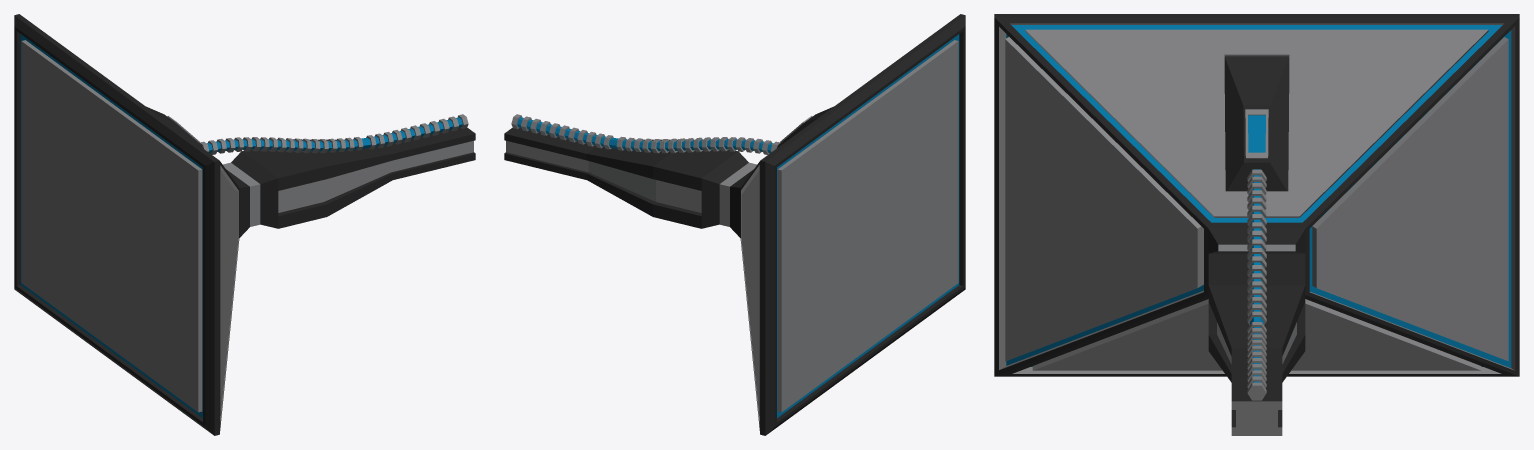
Rendered from WasteDisposalHoleBlueCrusher.fbx.
The picture shows the model from 3 angles, left to right: view 1: azimuth 30°, elevation 25°; view 2: azimuth 150°, elevation 25°; view 3: azimuth 270°, elevation 25°; orthographic projection. The views are drawn at different scales.
Parts seen in each view (by area): view 1: CompactorBlue; view 2: CompactorBlue; view 3: CompactorBlue.
Part boxes in pixels (x1,y1,x2,y2): CompactorBlue: (14,14,475,435); CompactorBlue: (504,14,965,435); CompactorBlue: (994,14,1519,435).
Size of the model in its own units: 4.18 by 3.07 by 4.07.
